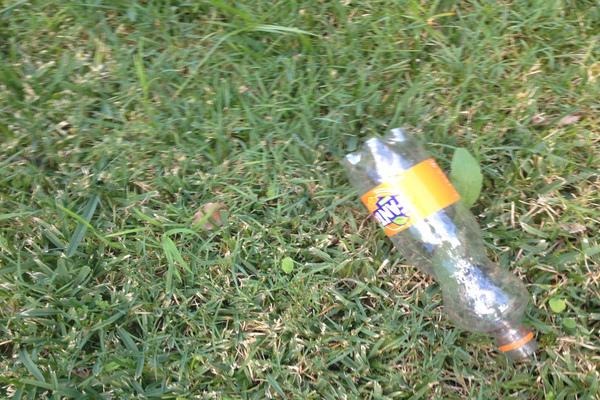Plastic Bottle: (340, 126, 538, 361)
